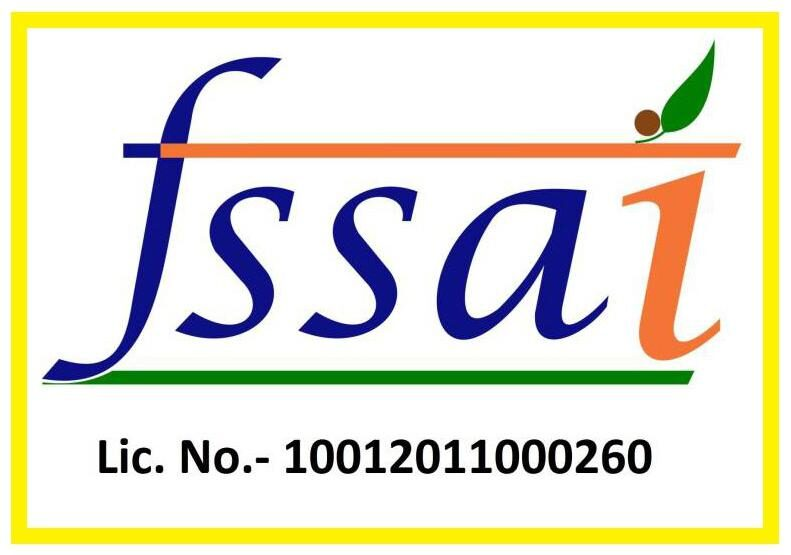fssai: (39, 39, 741, 386)
